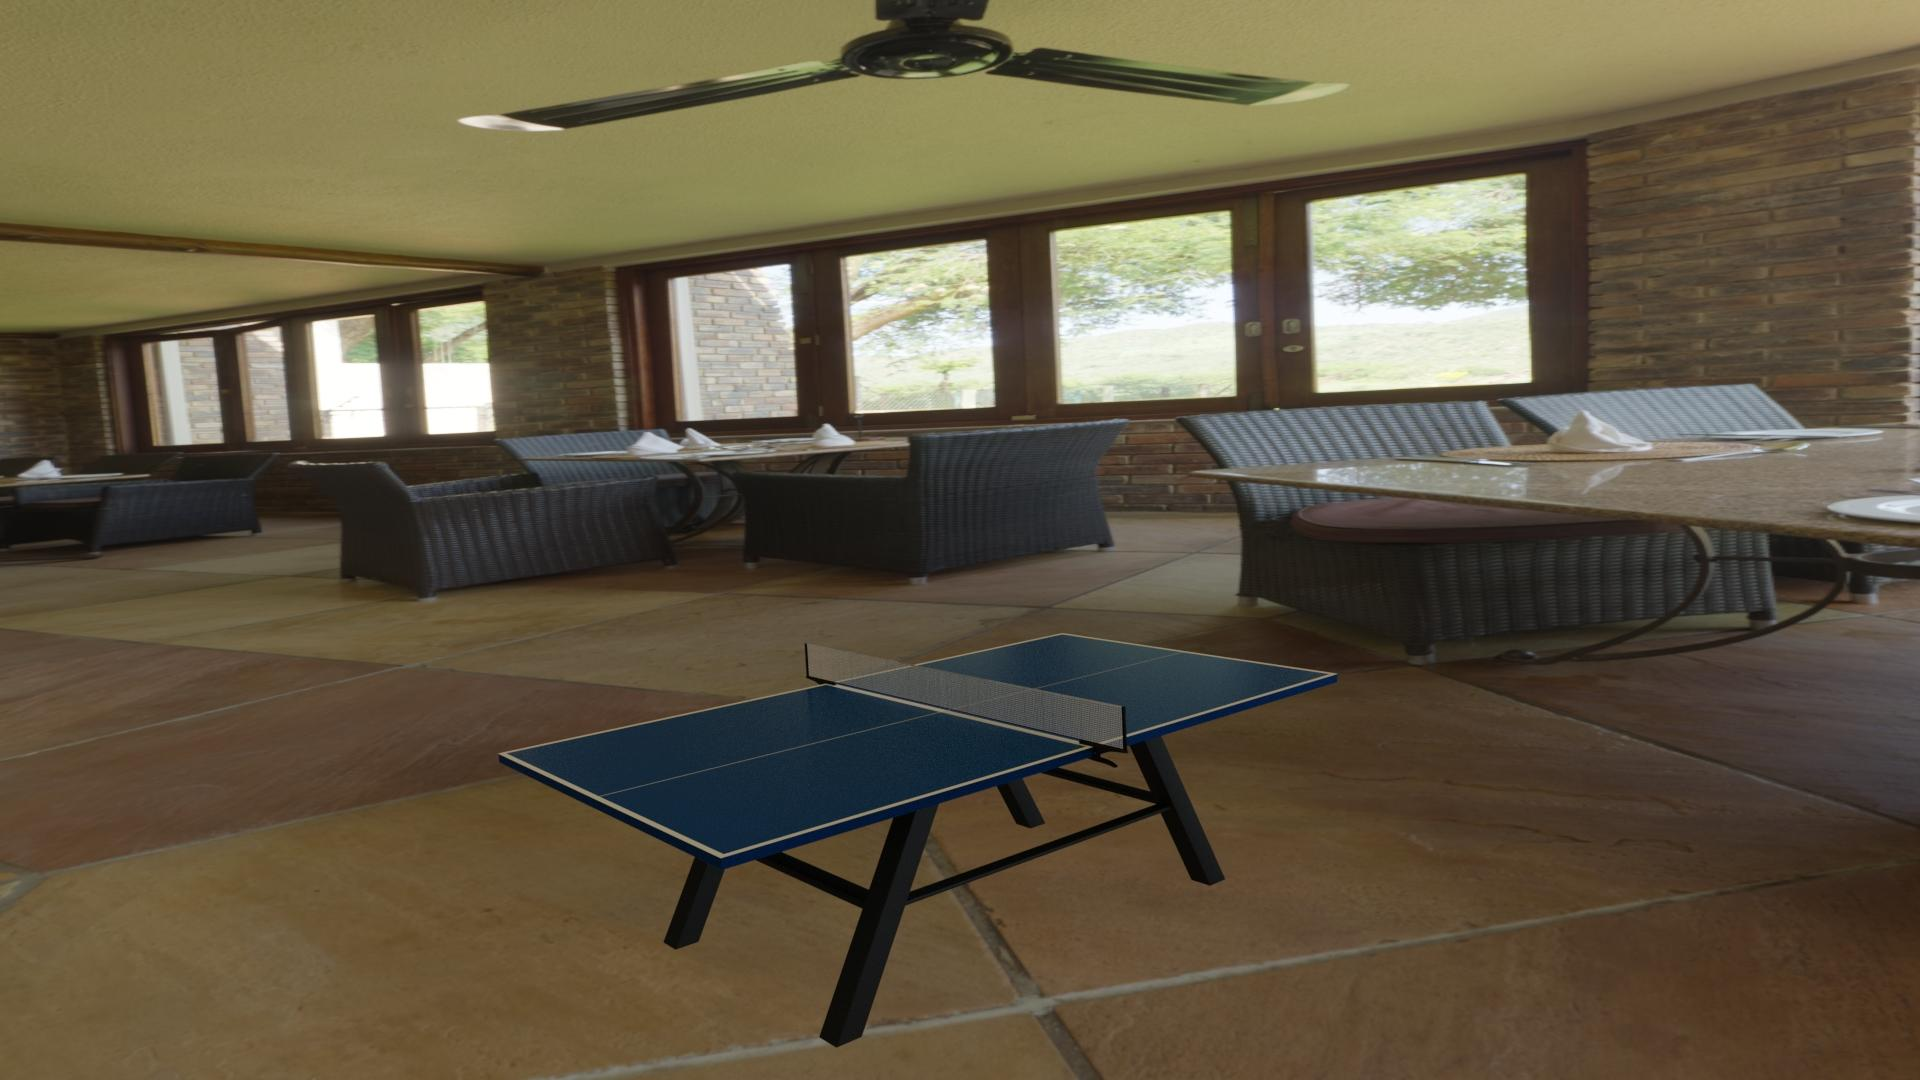table: (506, 634, 1331, 855)
